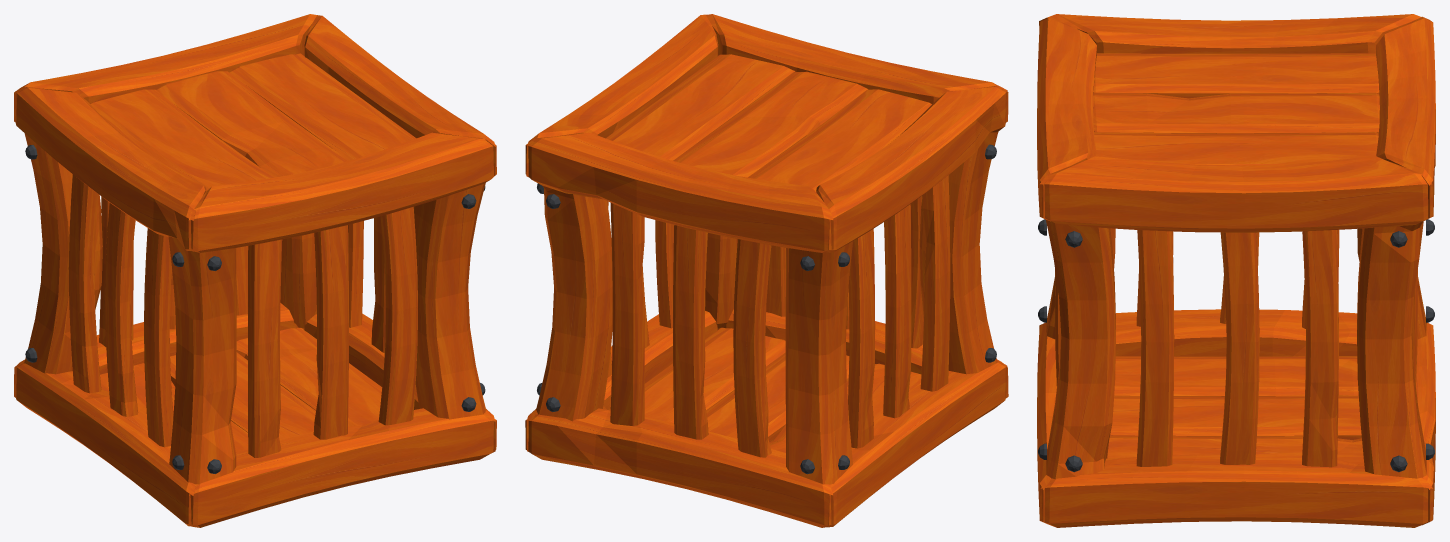
File: multihit-fracture.glb
The picture shows the model from 3 angles, left to right: view 1: azimuth 30°, elevation 25°; view 2: azimuth 150°, elevation 25°; view 3: azimuth 270°, elevation 25°; orthographic projection. The views are drawn at different scales.
Visible parts, largest first — view 1: fragment_08, fragment_04, fragment_01, fragment_11, fragment_03, fragment_07, fragment_40, fragment_41, fragment_00, fragment_10, fragment_39, fragment_09 (+22 smaller); view 2: fragment_10, fragment_06, fragment_00, fragment_02, fragment_11, fragment_07, fragment_40, fragment_41, fragment_01, fragment_08, fragment_39, fragment_09 (+21 smaller); view 3: fragment_09, fragment_05, fragment_02, fragment_03, fragment_39, fragment_40, fragment_11, fragment_10, fragment_08, fragment_41, fragment_07, fragment_37 (+12 smaller).
Boxes of the visible parts, x1,y1,x2,y2 form: fragment_08: [188, 132, 496, 252]; fragment_04: [188, 408, 496, 527]; fragment_01: [168, 236, 236, 484]; fragment_11: [15, 86, 206, 250]; fragment_03: [414, 182, 486, 419]; fragment_07: [15, 363, 195, 526]; fragment_40: [156, 71, 349, 177]; fragment_41: [229, 53, 416, 160]; fragment_00: [24, 133, 102, 374]; fragment_10: [14, 14, 317, 122]; fragment_39: [90, 89, 274, 190]; fragment_09: [304, 15, 495, 176]; fragment_10: [525, 132, 833, 252]; fragment_06: [525, 408, 833, 527]; fragment_00: [785, 241, 853, 484]; fragment_02: [536, 183, 612, 421]; fragment_11: [816, 85, 1007, 252]; fragment_07: [827, 360, 1007, 527]; fragment_40: [673, 71, 868, 177]; fragment_41: [606, 54, 795, 160]; fragment_01: [919, 132, 998, 374]; fragment_08: [706, 14, 1008, 122]; fragment_39: [748, 89, 931, 191]; fragment_09: [526, 14, 718, 176]; fragment_09: [1039, 156, 1433, 232]; fragment_05: [1039, 454, 1433, 527]; fragment_02: [1357, 219, 1434, 478]; fragment_03: [1038, 219, 1115, 479]; fragment_39: [1093, 53, 1379, 98]; fragment_40: [1093, 92, 1379, 133]; fragment_11: [1039, 14, 1421, 53]; fragment_10: [1376, 16, 1435, 220]; fragment_08: [1037, 17, 1096, 221]; fragment_41: [1094, 132, 1378, 165]; fragment_07: [1039, 309, 1357, 356]; fragment_37: [1110, 395, 1361, 439].
Size of the model in its own units: 1.01 by 0.9963 by 1.01.
Materials: 2 (1 with a texture image).
